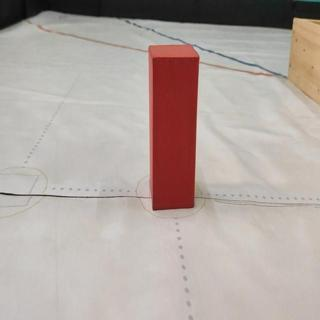redbox: (149, 45, 199, 211)
